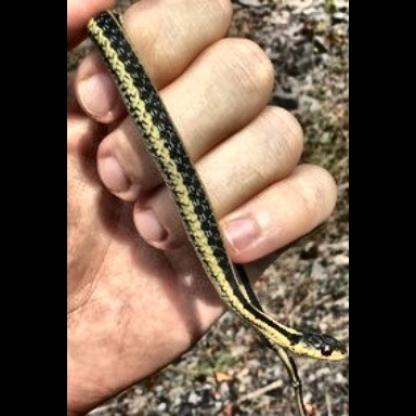Snake: (77, 6, 343, 405)
